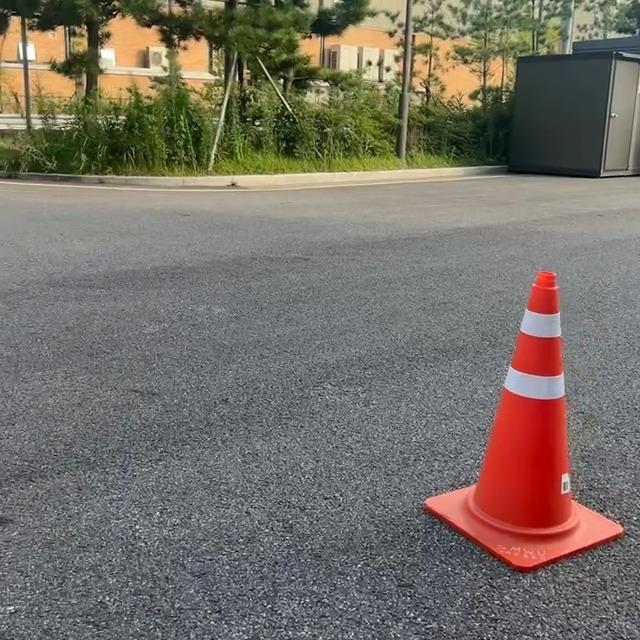fallen_object: (389, 227, 640, 565)
